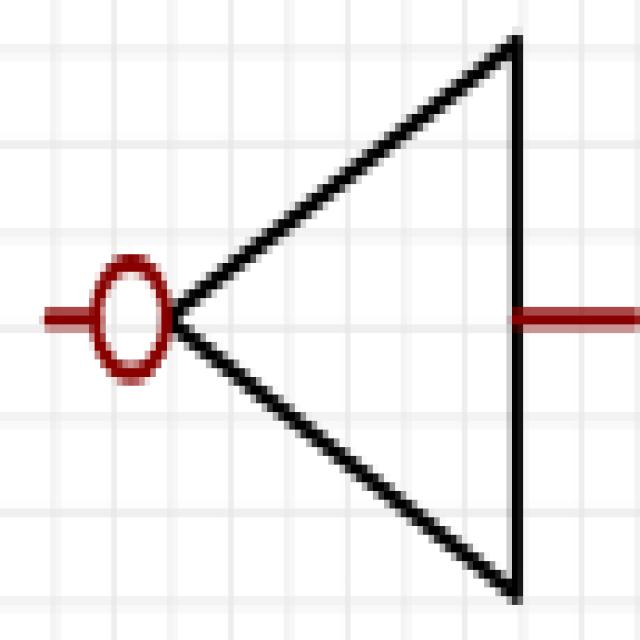inverter: (38, 14, 620, 634)
